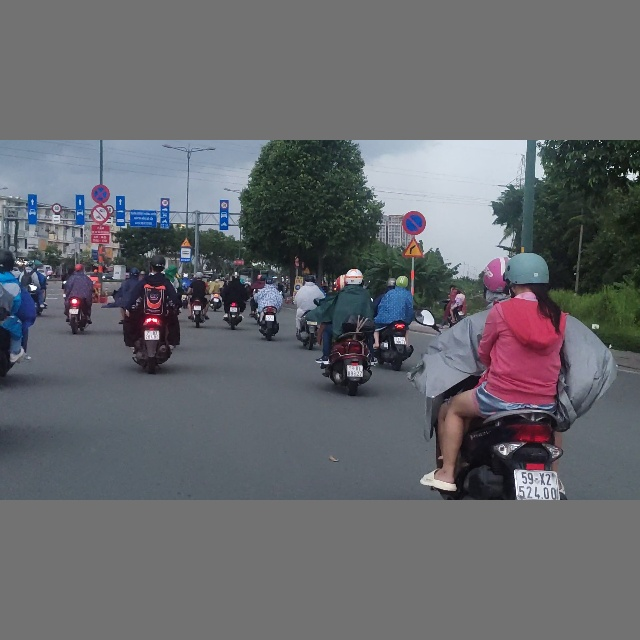I.434a: (180, 248, 192, 263)
P.111: (90, 204, 109, 223)
P.127*50: (220, 201, 228, 209), (161, 199, 169, 206)
P.127*80: (52, 203, 62, 213)
P.130: (91, 184, 110, 203)
P.131a: (401, 210, 426, 235)
W.201b: (402, 238, 424, 257), (179, 237, 192, 248)
